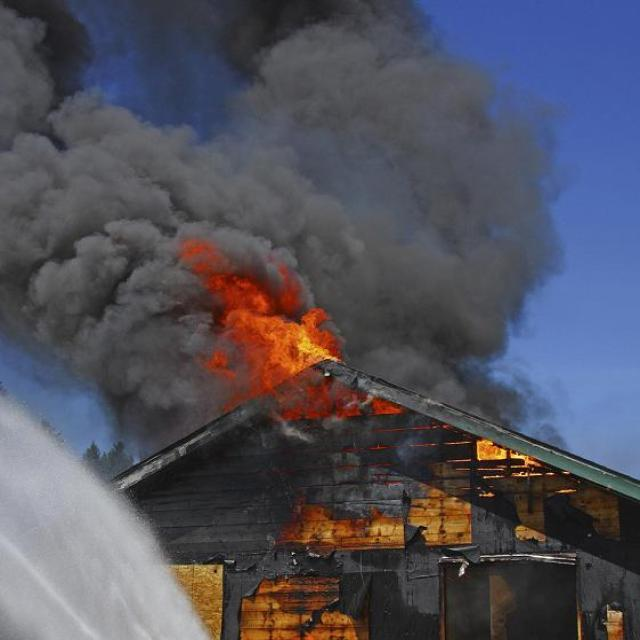Fire: (188, 235, 400, 420), (476, 436, 534, 468)
Smoke: (1, 0, 558, 222), (1, 223, 178, 450), (412, 234, 557, 427)
